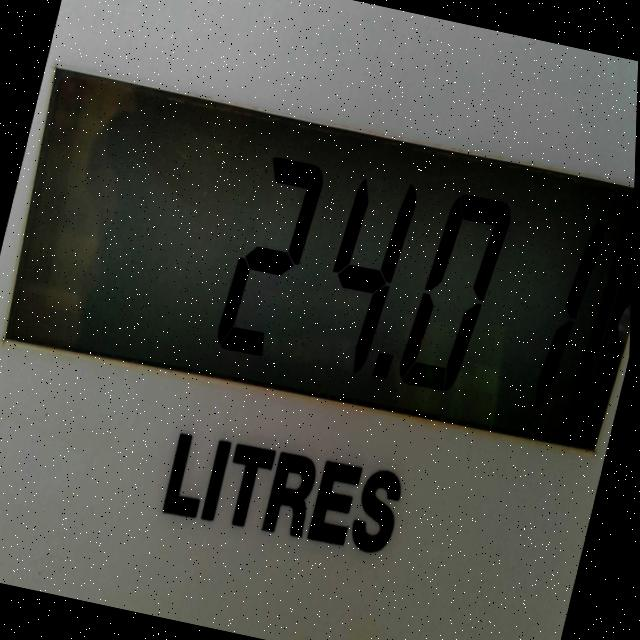.: (361, 339, 406, 394)
0: (389, 186, 529, 418)
1: (505, 206, 619, 428)
2: (196, 130, 336, 369)
4: (298, 167, 429, 393)
